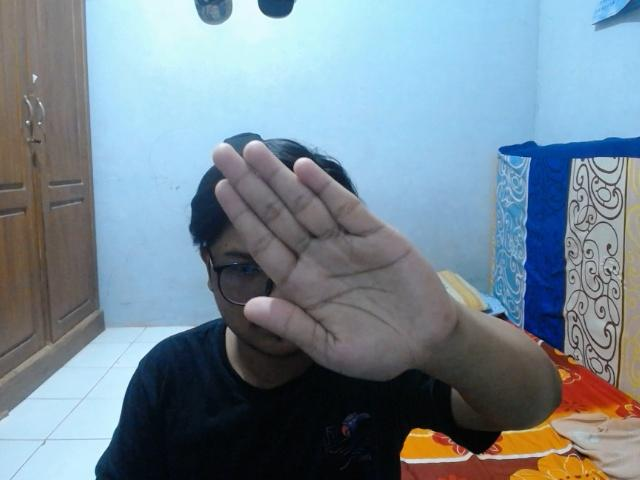Release: (210, 132, 464, 391)
